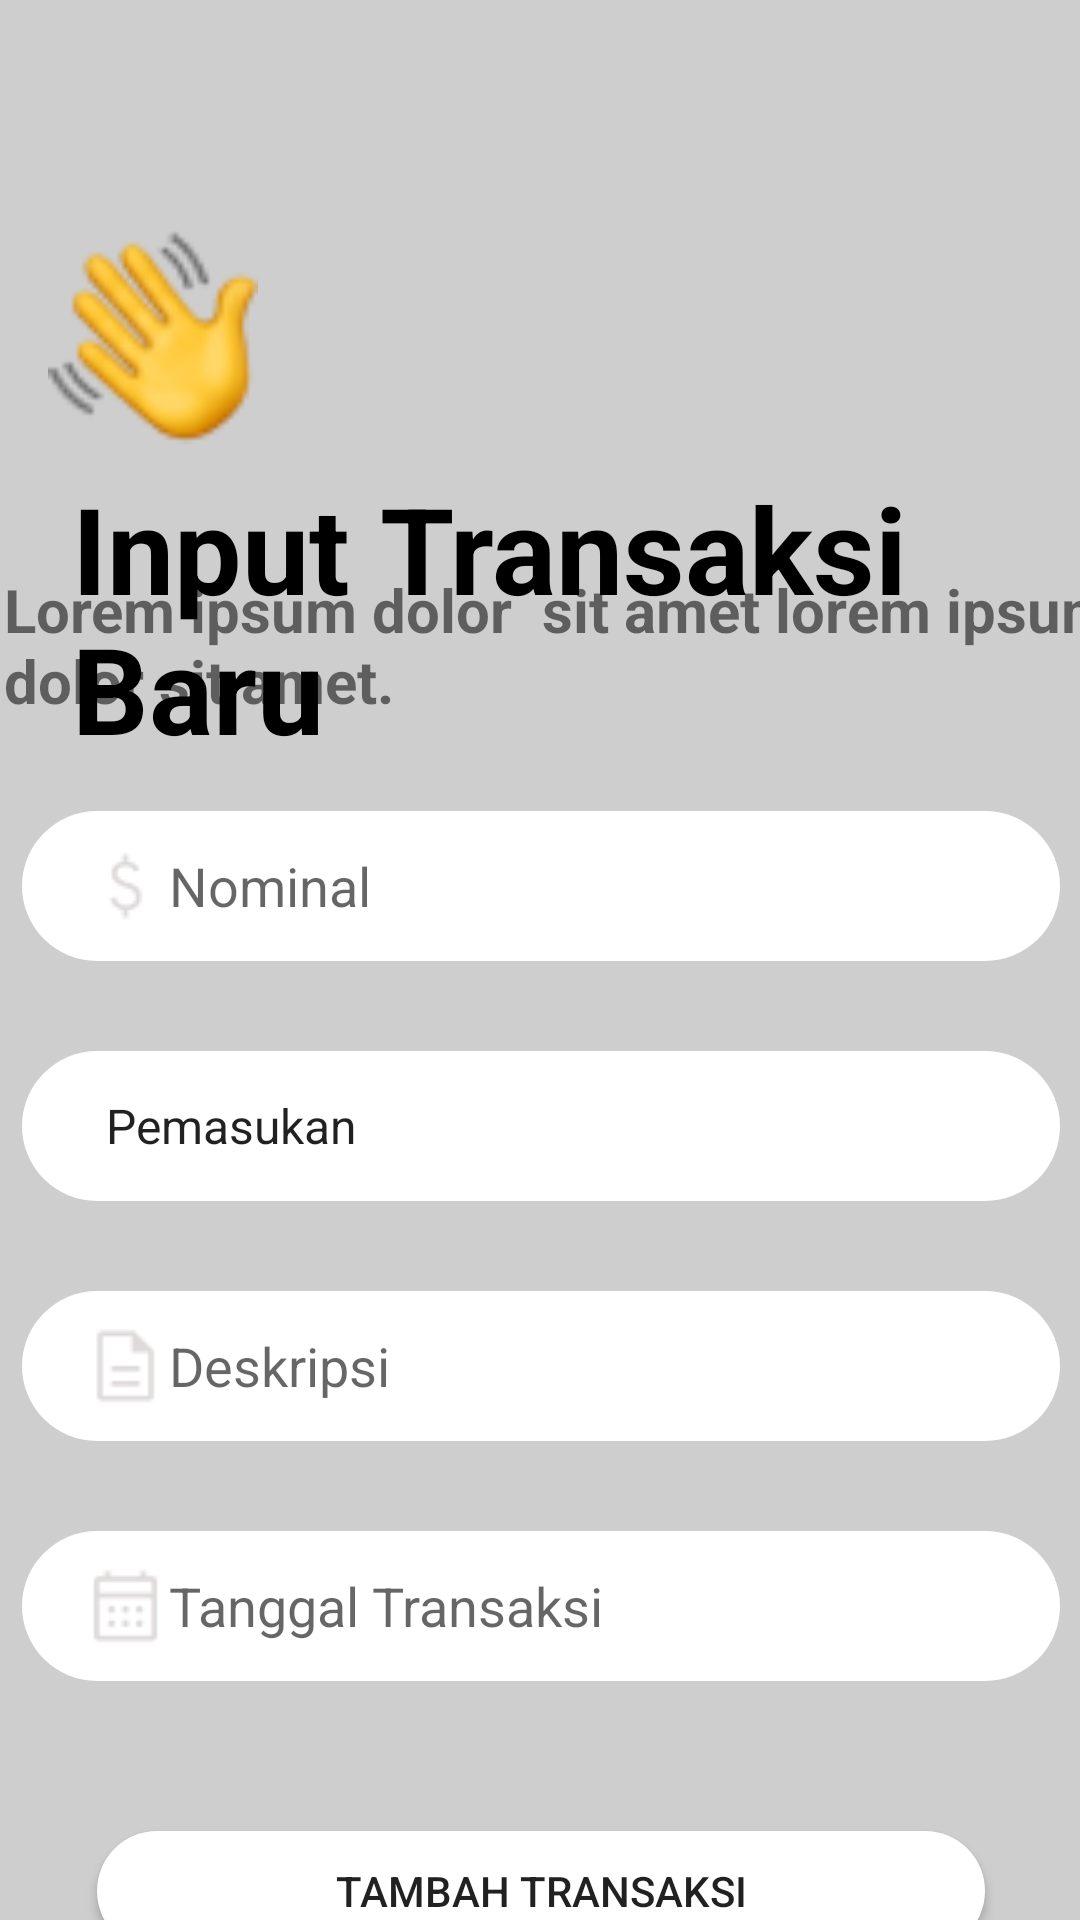

Locate icon controls on the screen. Image size 1080w x 1920h, boxes as (x1, y1, x2, y2).
tangan: (48, 233, 258, 441)
